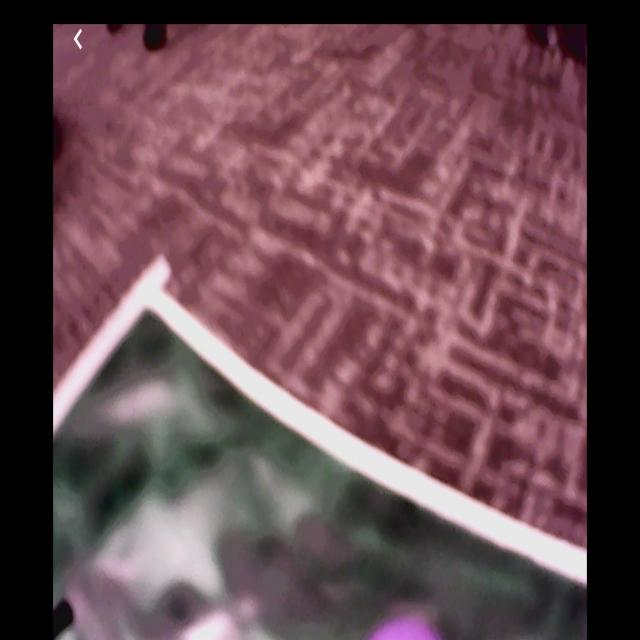ball: (367, 611, 443, 639)
